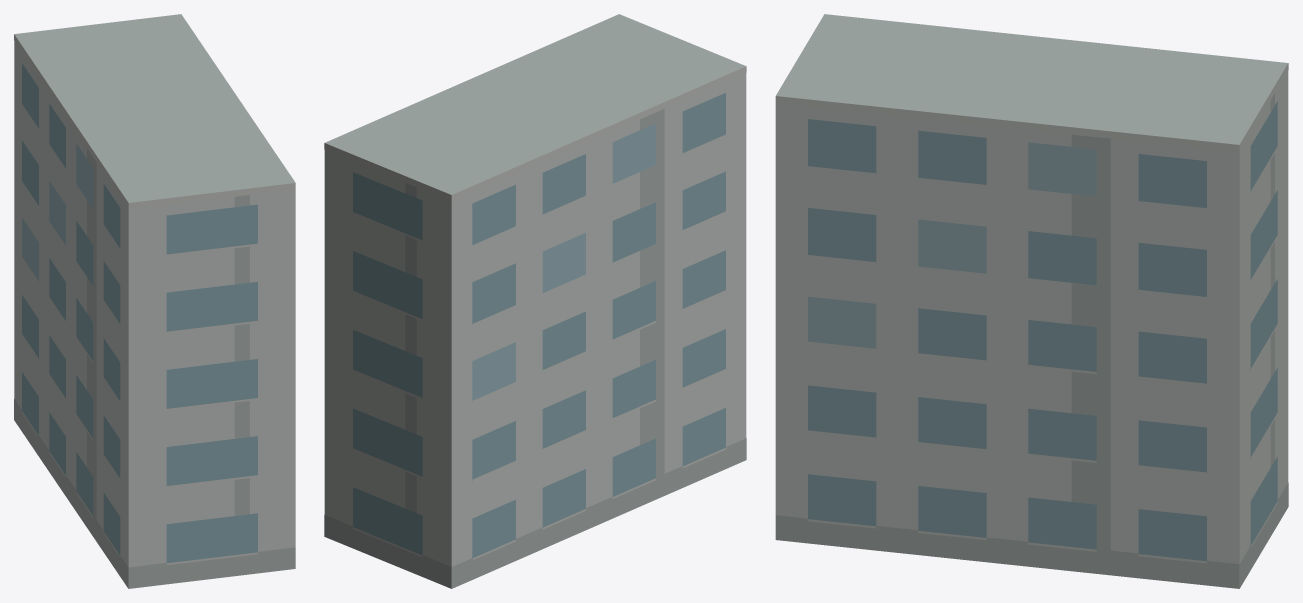
The model's file is survey-upis-32723461.glb.
The picture shows the model from 3 angles, left to right: view 1: azimuth 30°, elevation 25°; view 2: azimuth 150°, elevation 25°; view 3: azimuth 270°, elevation 25°; orthographic projection. The views are drawn at different scales.
Parts seen in each view (by area): view 1: survey-upis-32723461.tmp; view 2: survey-upis-32723461.tmp; view 3: survey-upis-32723461.tmp.
Boxes of the visible parts, box(x1,y1,x2,y2) form: survey-upis-32723461.tmp: box(14, 14, 295, 588); survey-upis-32723461.tmp: box(324, 14, 746, 588); survey-upis-32723461.tmp: box(775, 14, 1288, 588).
Bounding box in the file's own units: 9.24 × 14.6 × 15.29.
